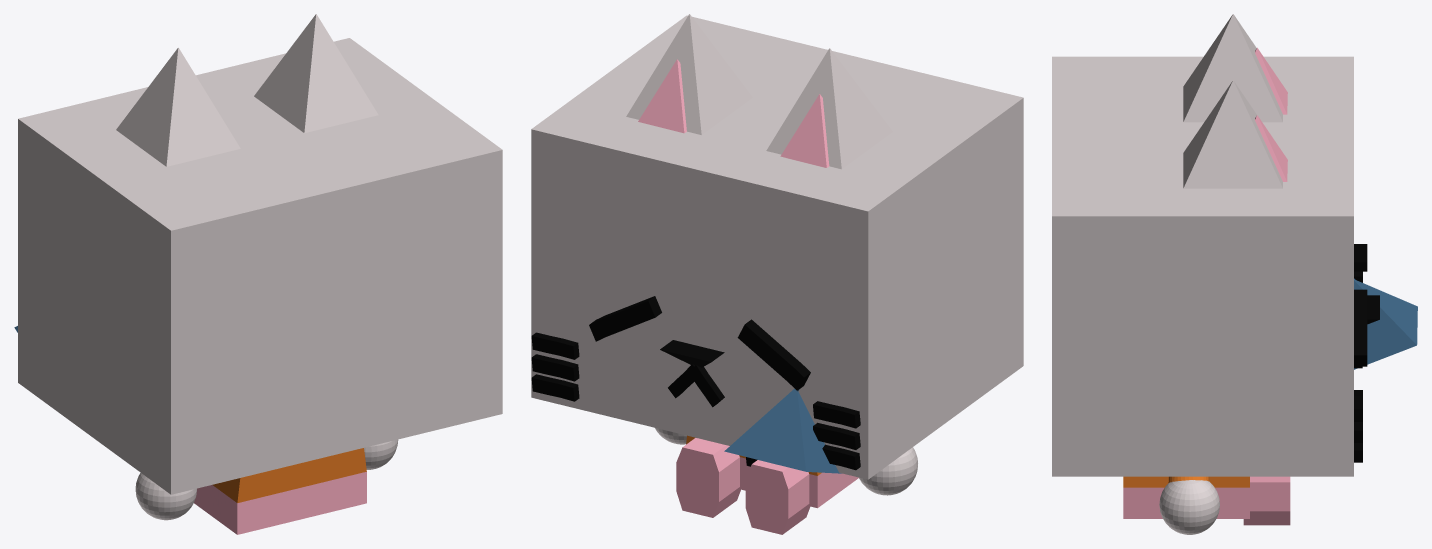
Rendered from modelo.glb.
3 views of the same model, side by side, from view 1: azimuth 30°, elevation 25°; view 2: azimuth 150°, elevation 25°; view 3: azimuth 270°, elevation 25° (orthographic). The views are drawn at different scales.
Parts seen in each view (by area): view 1: Cubo.003, Cubo, Cubo.005, Cubo.004, Esfera.001, Esfera; view 2: Cubo.003, Cubo.004, Cubo.005, Cubo.021, Cubo.001, Cubo.002, Cubo.023, Cubo.006, Cubo.022, Cubo.007, Esfera.001, Cubo (+8 smaller); view 3: Cubo.003, Cubo.004, Cubo.005, Cubo, Cubo.021, Esfera, Cubo.001, Cubo.007, Cubo.022, Cubo.023.
Boxes of the visible parts, x1,y1,x2,y2 form: Cubo.003: [18, 38, 502, 494]; Cubo: [194, 448, 366, 534]; Cubo.005: [116, 47, 240, 166]; Cubo.004: [254, 14, 378, 133]; Esfera.001: [135, 473, 196, 520]; Esfera: [364, 439, 398, 469]; Cubo.003: [531, 15, 1023, 479]; Cubo.004: [626, 14, 752, 134]; Cubo.005: [766, 48, 892, 169]; Cubo.021: [724, 388, 841, 473]; Cubo.001: [676, 438, 740, 517]; Cubo.002: [745, 460, 810, 534]; Cubo.023: [638, 59, 686, 133]; Cubo.006: [737, 319, 810, 390]; Cubo.022: [780, 94, 829, 167]; Cubo.007: [589, 296, 661, 341]; Esfera.001: [859, 447, 917, 495]; Cubo: [686, 435, 858, 508]; Cubo.003: [1052, 56, 1353, 476]; Cubo.004: [1183, 80, 1282, 188]; Cubo.005: [1183, 14, 1282, 122]; Cubo: [1123, 476, 1249, 518]; Cubo.021: [1354, 278, 1417, 369]; Esfera: [1159, 480, 1219, 534]; Cubo.001: [1243, 476, 1290, 525]; Cubo.007: [1354, 289, 1367, 366]; Cubo.022: [1255, 47, 1287, 114]; Cubo.023: [1255, 115, 1287, 181].
Bounding box in the file's own units: 2.38 × 3.16 × 2.3.
